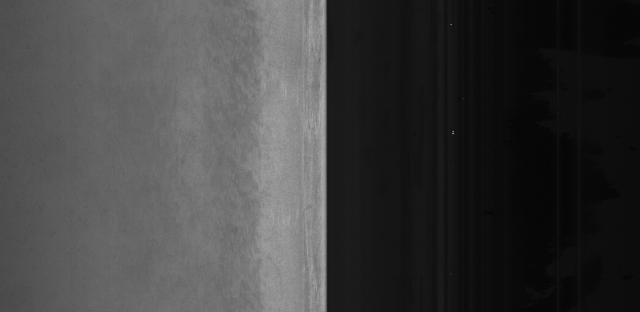silk_spot: (215, 91, 270, 239)
